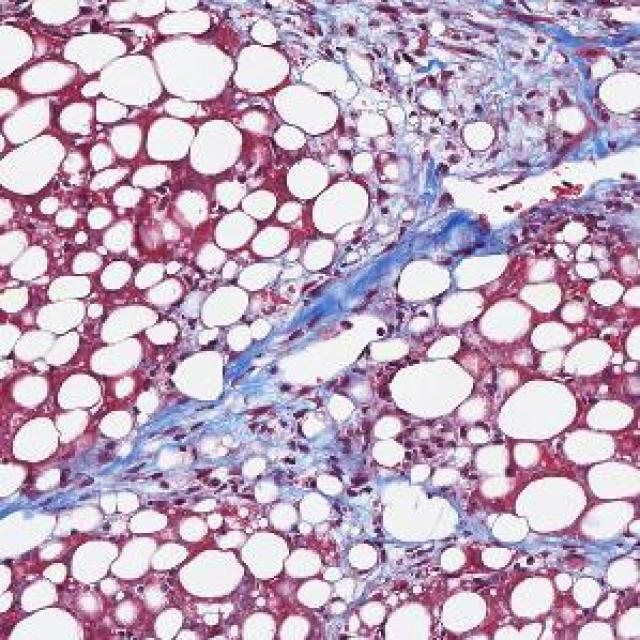fibrosis: (359, 13, 586, 126), (345, 158, 490, 282), (223, 400, 366, 484)
